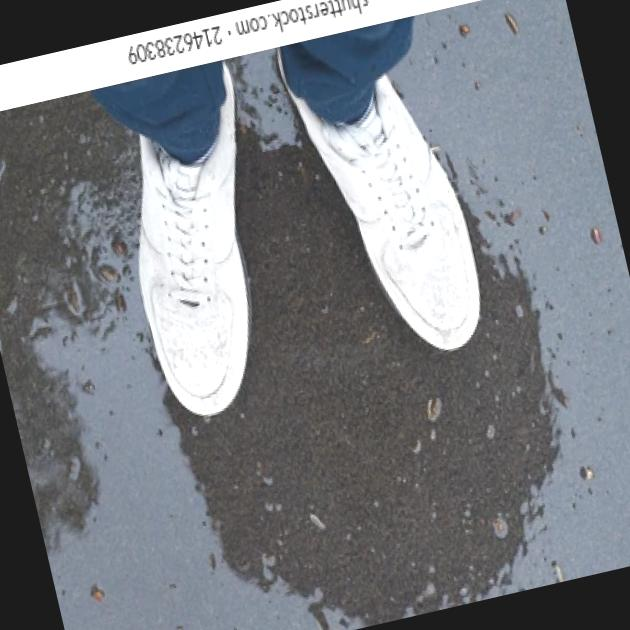shoes: (100, 15, 525, 454)
